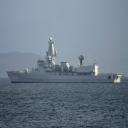Fragata: (6, 32, 124, 85)
